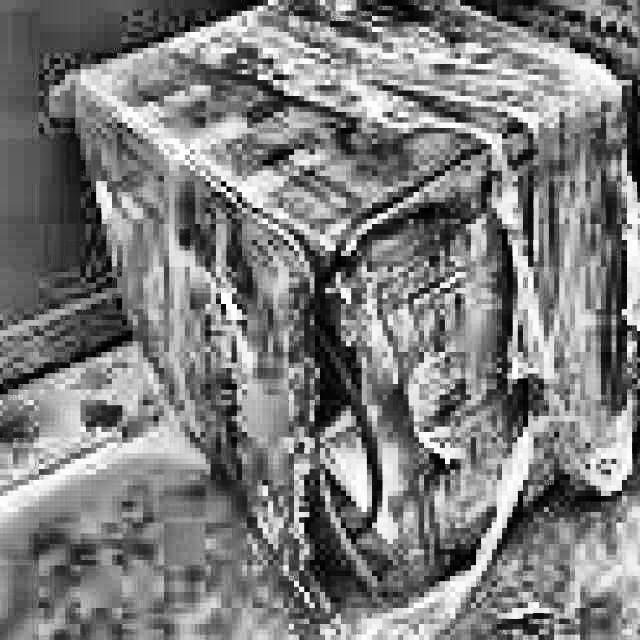box: (43, 0, 639, 639)
hole: (286, 274, 425, 612)
